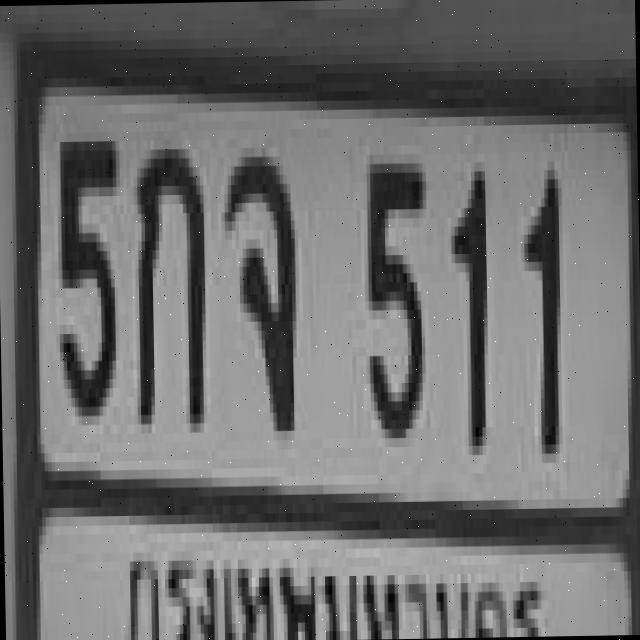1: (518, 160, 558, 444), (446, 157, 486, 441)
10GorGai: (129, 139, 203, 415)
17ChorChan: (220, 146, 294, 422)
5: (362, 154, 427, 428), (52, 132, 116, 406)
